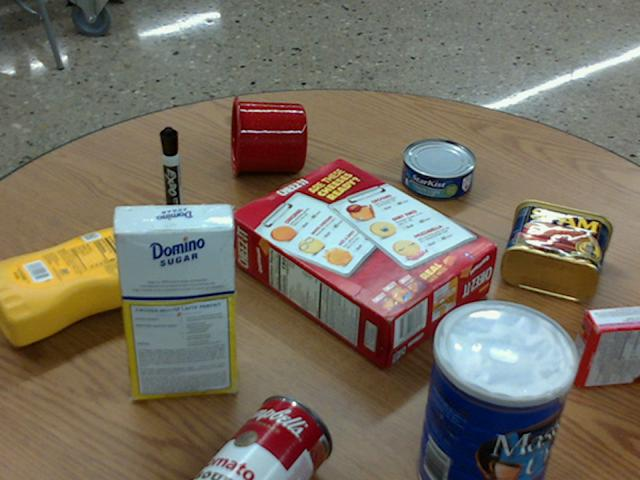cracker_box: (229, 158, 494, 363)
gelatin_box: (569, 305, 639, 387)
large_marker: (160, 127, 183, 229)
master_chef_can: (417, 300, 576, 479)
mug: (230, 96, 306, 176)
mustard_bottle: (0, 226, 187, 345)
potted_meat_can: (501, 198, 612, 301)
sugar_box: (112, 203, 233, 398)
tomato_soup_can: (194, 394, 332, 479)
tuna_fish_can: (402, 138, 475, 198)
